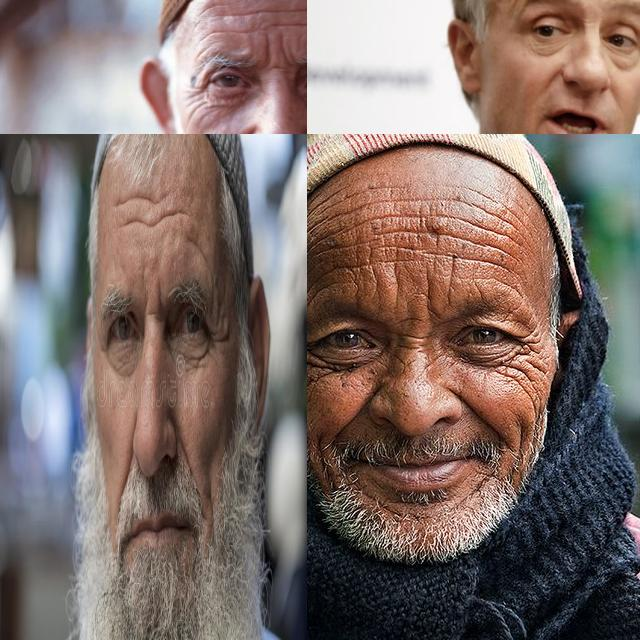chin: (362, 488, 400, 516)
crows_feet: (515, 332, 549, 372), (187, 83, 207, 111), (209, 324, 225, 357), (307, 333, 316, 382)
forehead: (463, 201, 509, 263), (408, 192, 452, 256), (350, 192, 394, 252), (336, 258, 392, 302), (307, 200, 342, 252), (186, 229, 208, 267), (116, 188, 156, 208), (212, 5, 258, 22), (202, 26, 252, 40), (161, 204, 190, 228), (123, 211, 153, 233), (265, 2, 295, 20), (284, 15, 307, 31), (254, 0, 294, 5)
frown_line: (389, 311, 426, 359), (420, 268, 440, 322), (275, 38, 291, 68), (260, 40, 276, 66), (155, 276, 164, 313)
gummy_smile: (454, 388, 502, 436), (332, 389, 372, 438), (178, 433, 195, 467), (120, 448, 133, 486), (545, 66, 563, 88), (606, 86, 620, 104), (233, 125, 252, 134)
masseter: (511, 418, 529, 467)
